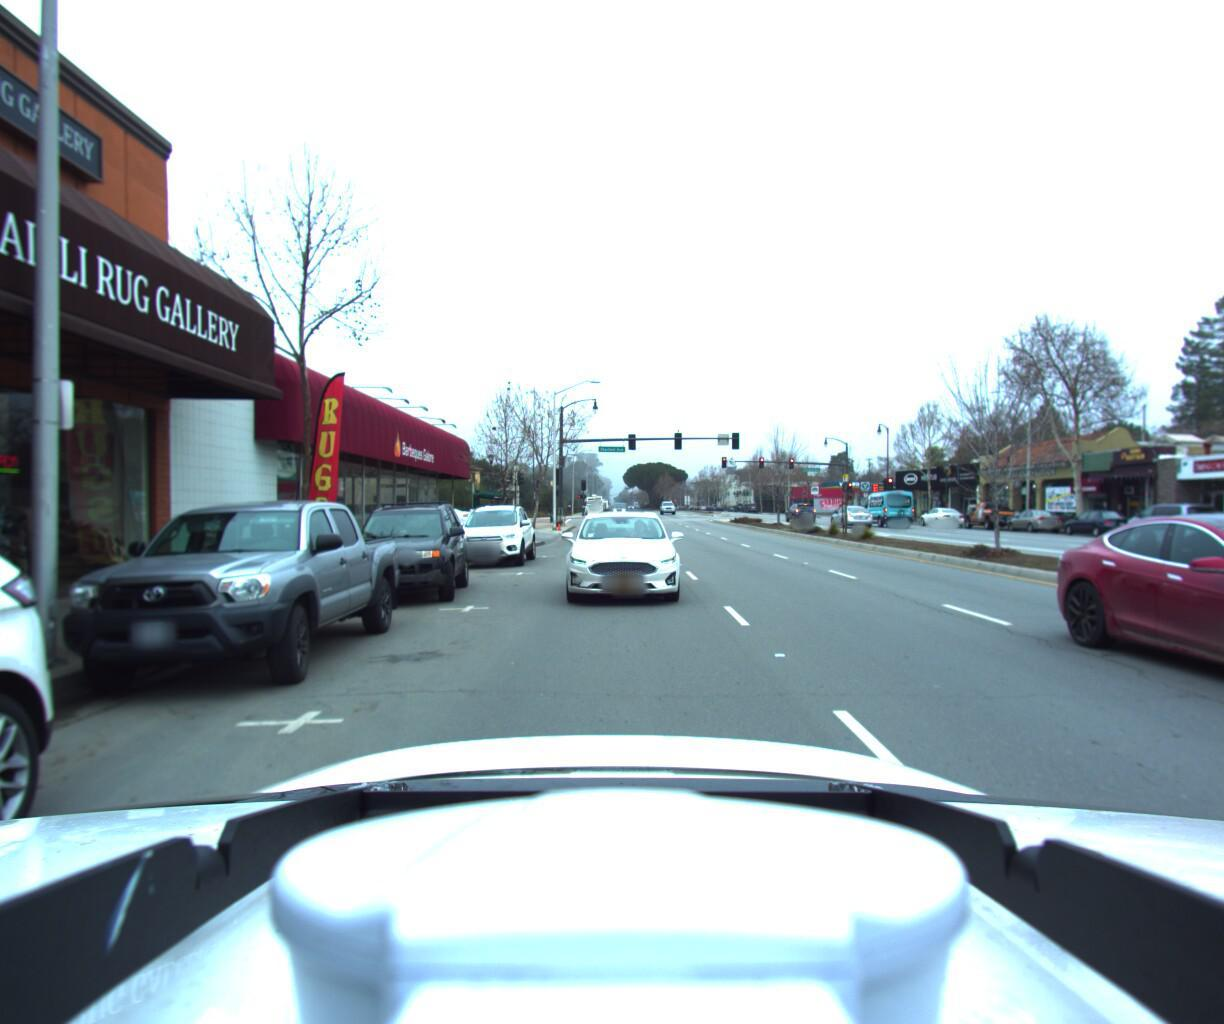car: (4, 487, 410, 713), (1101, 487, 1224, 810), (329, 497, 464, 610), (556, 505, 682, 607), (445, 501, 531, 569), (1116, 501, 1224, 543), (374, 504, 471, 535), (1055, 508, 1140, 538), (855, 488, 915, 526), (960, 496, 1024, 531), (1001, 505, 1067, 531), (914, 505, 970, 528), (827, 504, 875, 527), (783, 501, 816, 523)
